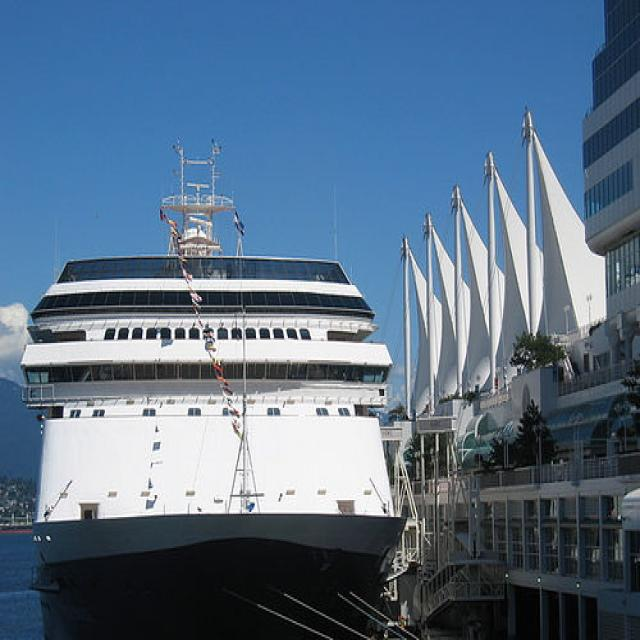boat: (21, 138, 407, 640)
